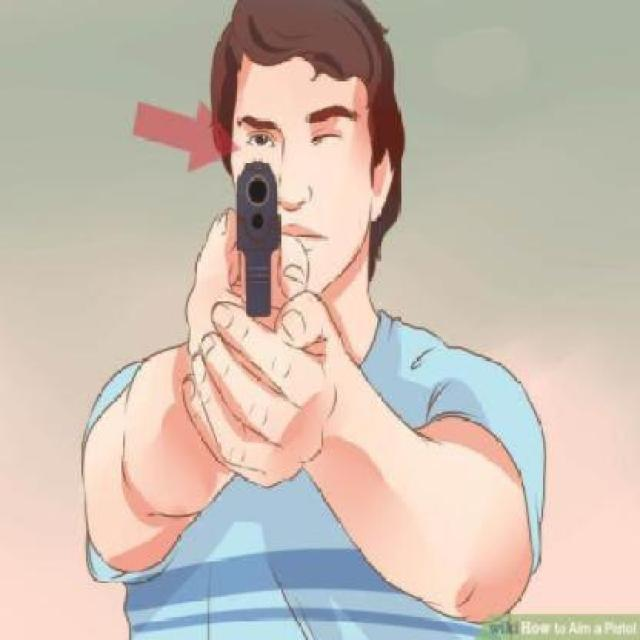gun: (216, 154, 294, 316)
